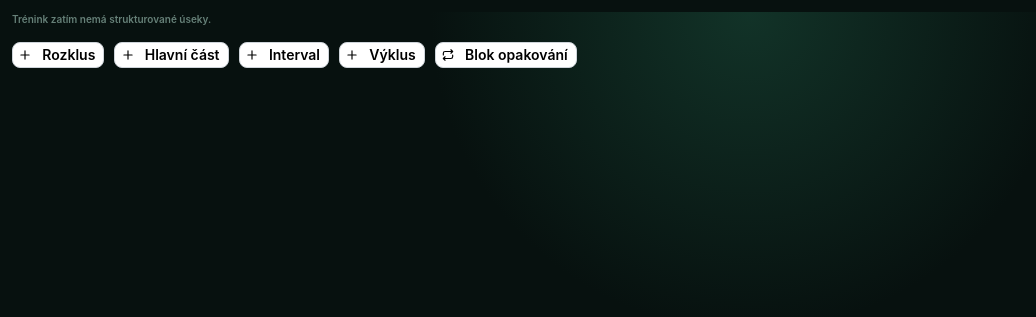
Test: SegmentEditor › switches a step to end on lap press
Click the button "Rozklus" at (58, 54), box 12,42 -> 104,68
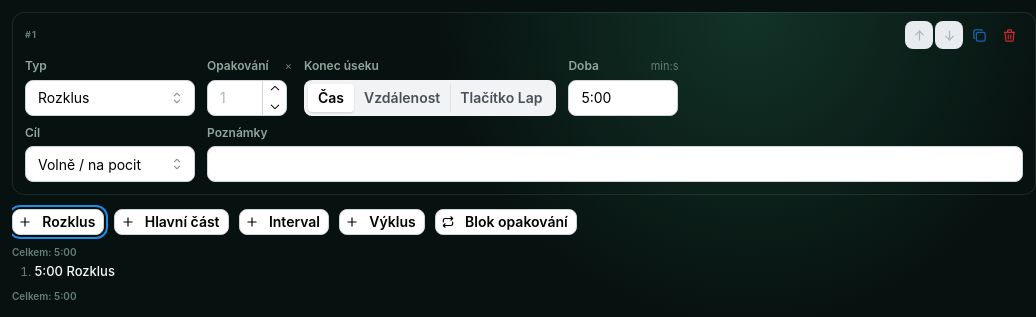
Click the text "Tlačítko Lap" at (501, 97), box 460,89 -> 542,106
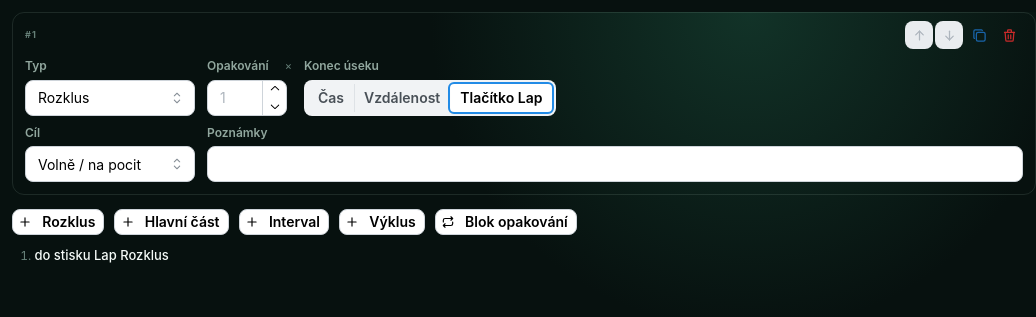
Now the element with test id "preview" reads "do stisku Lap Rozklus", box 34,247 -> 169,263
